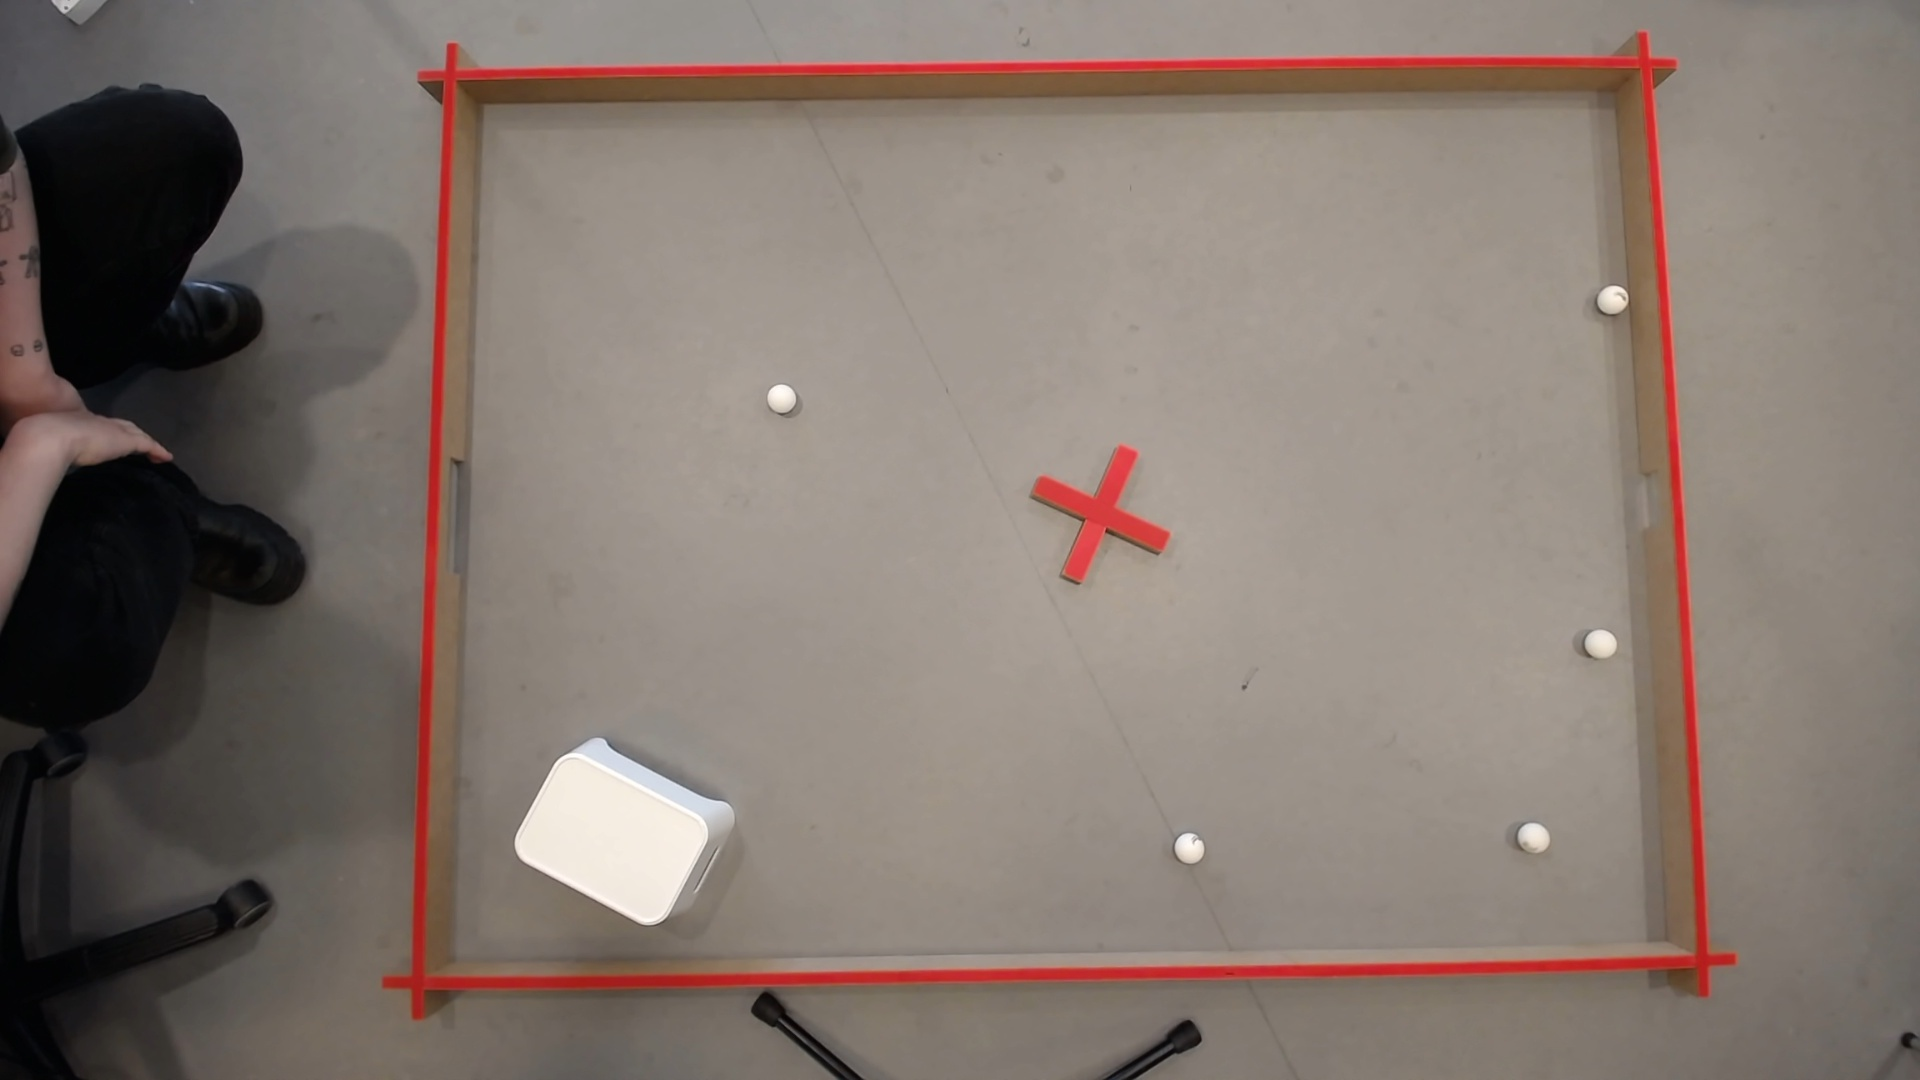balls: (505, 723, 731, 934), (1581, 622, 1621, 662), (1170, 828, 1209, 866), (1515, 815, 1555, 853), (1594, 278, 1633, 316)
car: (762, 378, 798, 414)
